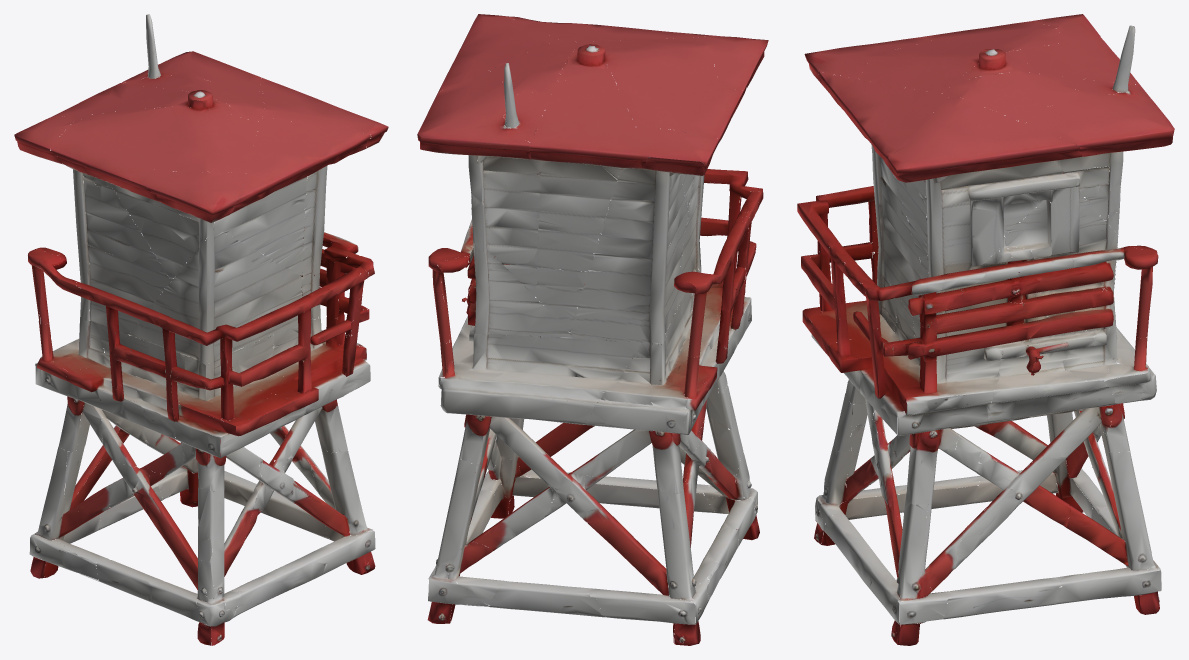
File: lifeguard.glb
The picture shows the model from 3 angles, left to right: view 1: azimuth 30°, elevation 25°; view 2: azimuth 150°, elevation 25°; view 3: azimuth 270°, elevation 25°; orthographic projection. The views are drawn at different scales.
Parts seen in each view (by area): view 1: tripo_node_e5cae4f8-4991-40d2-9d8e-4e9c8f6b36b7; view 2: tripo_node_e5cae4f8-4991-40d2-9d8e-4e9c8f6b36b7; view 3: tripo_node_e5cae4f8-4991-40d2-9d8e-4e9c8f6b36b7.
Boxes of the visible parts, x1,y1,x2,y2 form: tripo_node_e5cae4f8-4991-40d2-9d8e-4e9c8f6b36b7: (14,14,388,645); tripo_node_e5cae4f8-4991-40d2-9d8e-4e9c8f6b36b7: (417,14,768,645); tripo_node_e5cae4f8-4991-40d2-9d8e-4e9c8f6b36b7: (797,14,1174,645).
Bounding box in the file's own units: 0.5987 × 0.9994 × 0.6144.
Materials: 1 (1 with a texture image).
